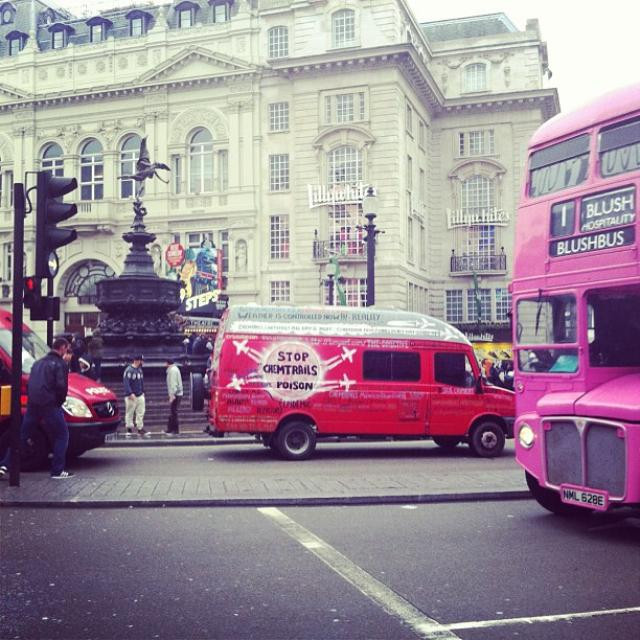Vehicle: (507, 81, 640, 525), (203, 304, 519, 456), (0, 308, 122, 466), (0, 307, 122, 459)
